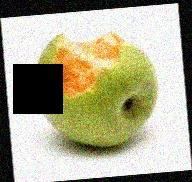rotten apple: (30, 24, 165, 149)
